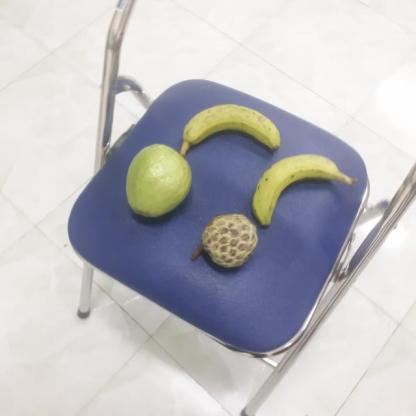annona: (190, 213, 258, 267)
banana: (247, 154, 334, 228), (179, 106, 281, 158)
guava: (124, 144, 193, 218)
